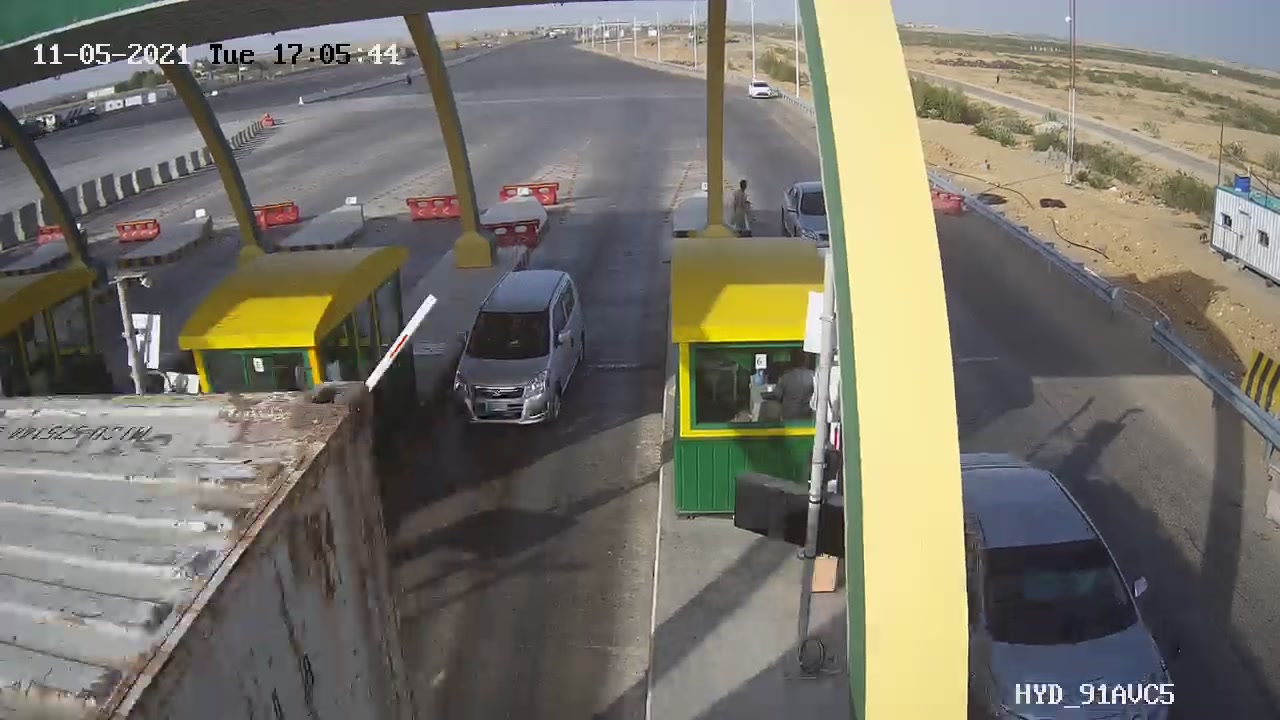F1: (435, 255, 603, 455)
